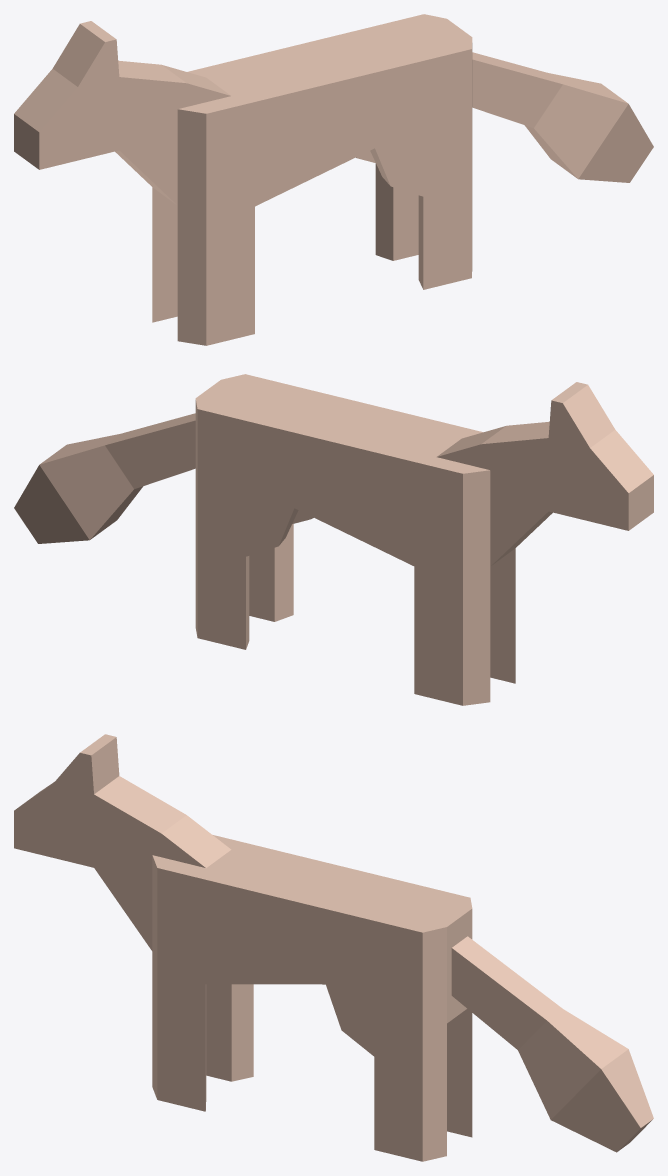
Rendered from fox_block.fbx.
3 views of the same model, one above another, from view 1: azimuth 30°, elevation 25°; view 2: azimuth 150°, elevation 25°; view 3: azimuth 330°, elevation 25° (orthographic).
Parts seen in each view (by area): view 1: fox; view 2: fox; view 3: fox.
Boxes of the visible parts, left/top/right/bottom form: fox: left=14, top=14, right=653, bottom=345; fox: left=14, top=374, right=653, bottom=705; fox: left=14, top=734, right=653, bottom=1161.
Bounding box in the file's own units: 121 × 59.12 × 16.16.
